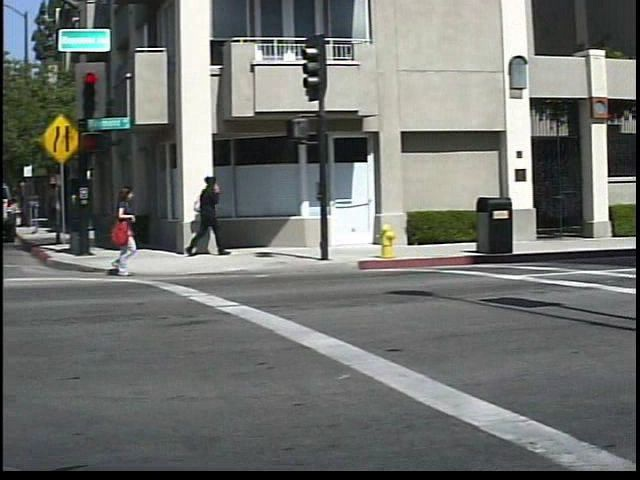person: (104, 181, 154, 276), (191, 170, 236, 258)
